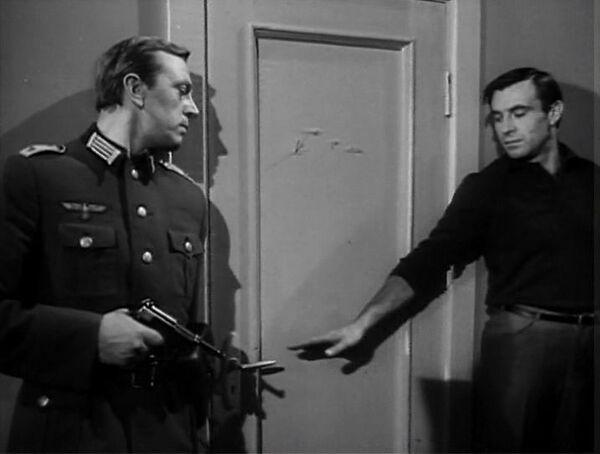Gun: (134, 297, 225, 365)
